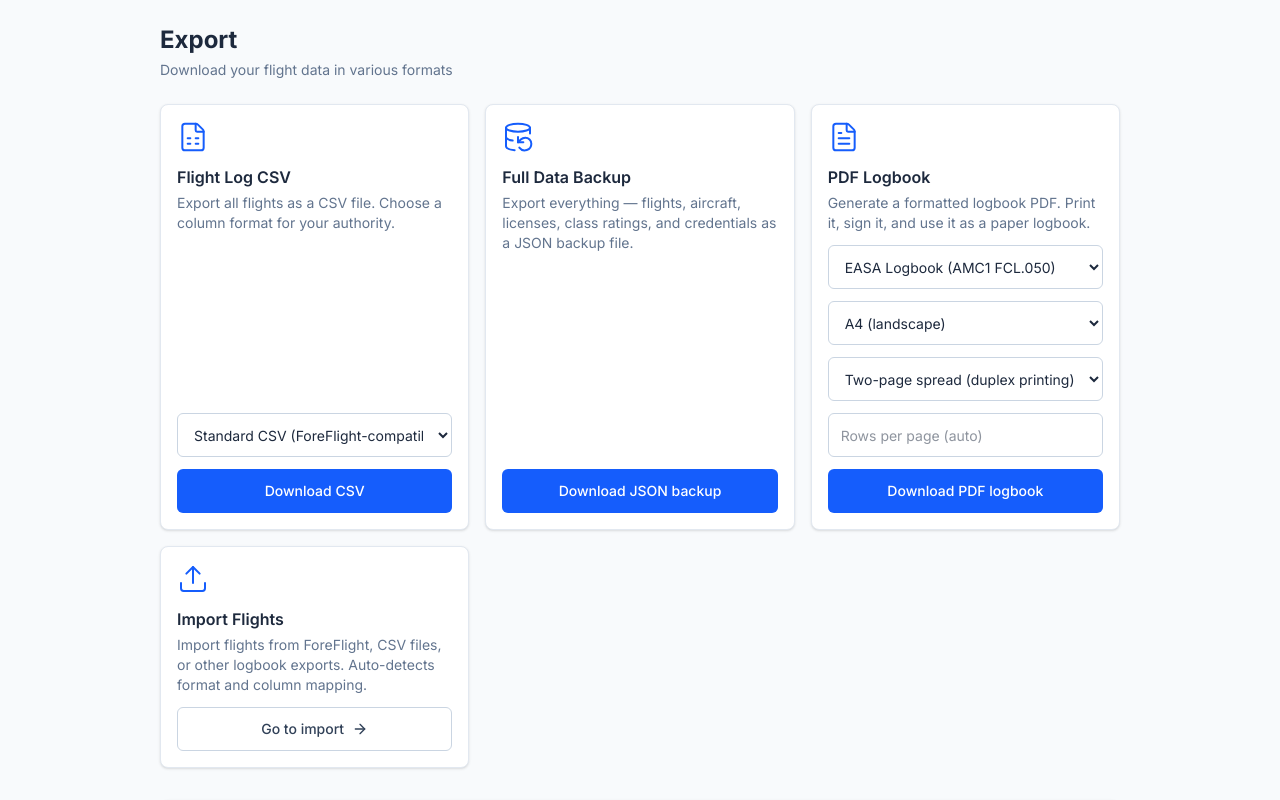
Test: ExportPage › shows error message on export failure
Click the button "Download CSV": (315, 491) [177,469,452,513]
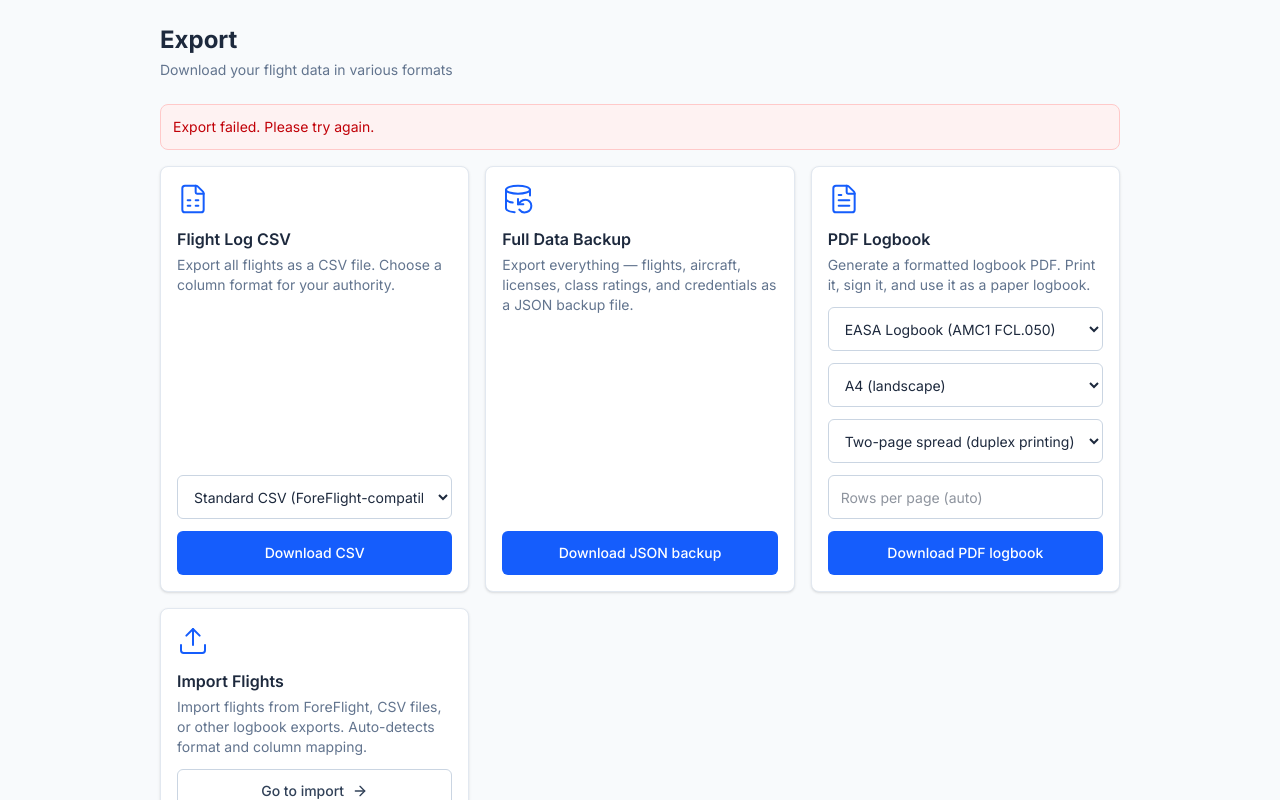
Result: the text "Export failed. Please try again." is shown at [160,104,1120,150]
